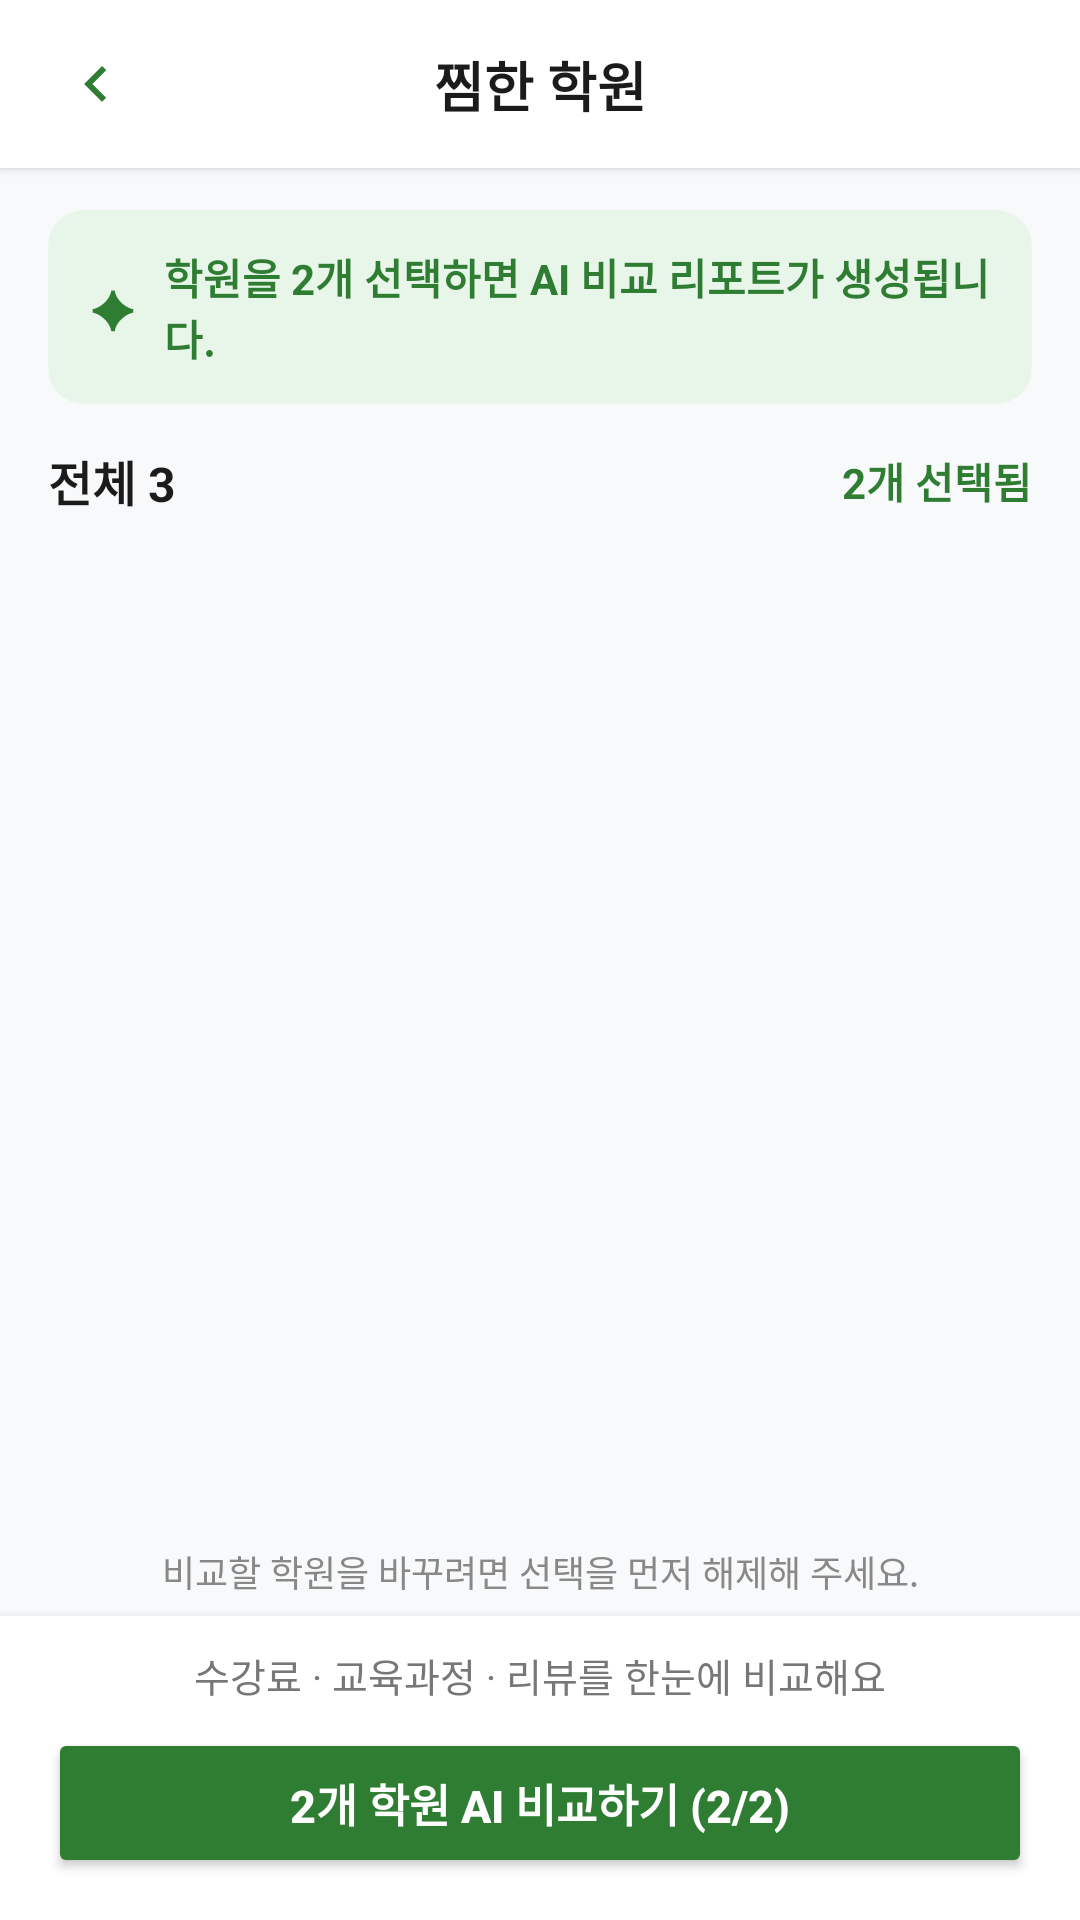

Screen size 1080 x 1920. Icon name, then its box in pixels as (x1, y1, x2, y2):
뒤로가기: (84, 66, 106, 102)
